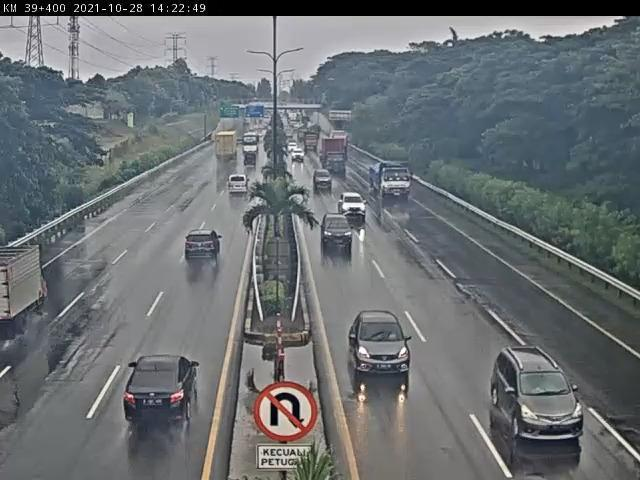truck: (1, 245, 49, 338), (367, 160, 416, 202), (321, 137, 350, 178)
